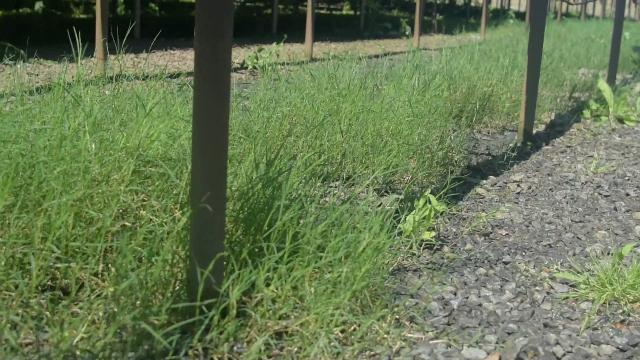MalezaMontesDelPlata: (223, 194, 400, 358), (0, 223, 190, 356), (232, 50, 400, 195), (89, 48, 195, 224), (0, 29, 92, 222), (549, 234, 640, 333), (400, 51, 458, 186), (460, 46, 519, 137), (401, 186, 454, 250), (579, 84, 635, 129)
